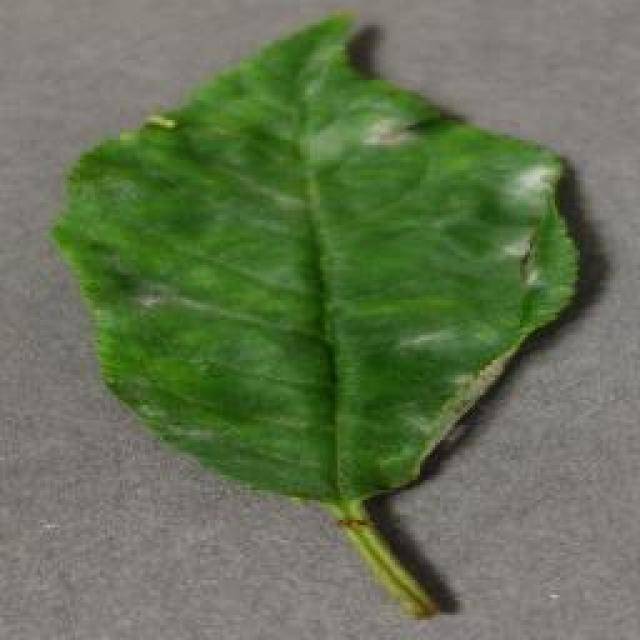Cherry___Powdery_mildew: (35, 0, 595, 635)
